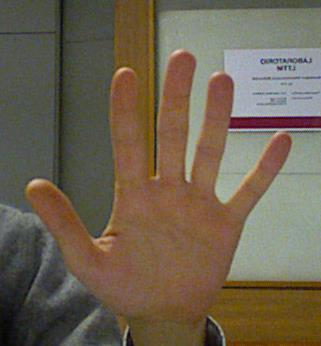down: (18, 47, 295, 320)
